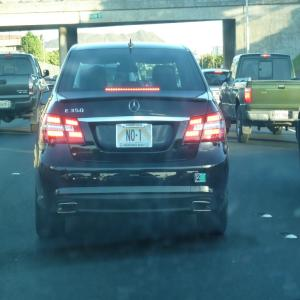Vehicle-registration-plate: (117, 125, 154, 149), (274, 110, 291, 122), (1, 102, 12, 111), (215, 91, 223, 98)
